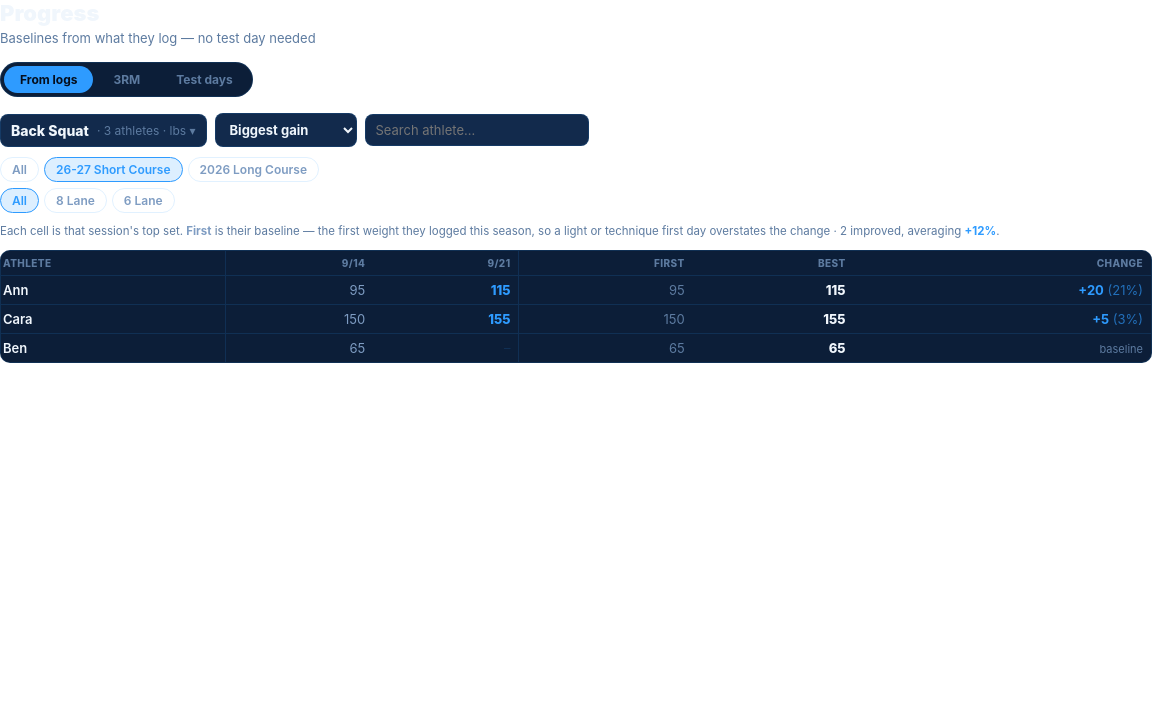
Test: picking a bodyweight movement switches the grid to reps
What coordinates should you click on to do the following:
click the button "Back Squat · 3 athletes · lbs ▾"
I would click on:
 (103, 130)
Its box is [0,114,206,146].
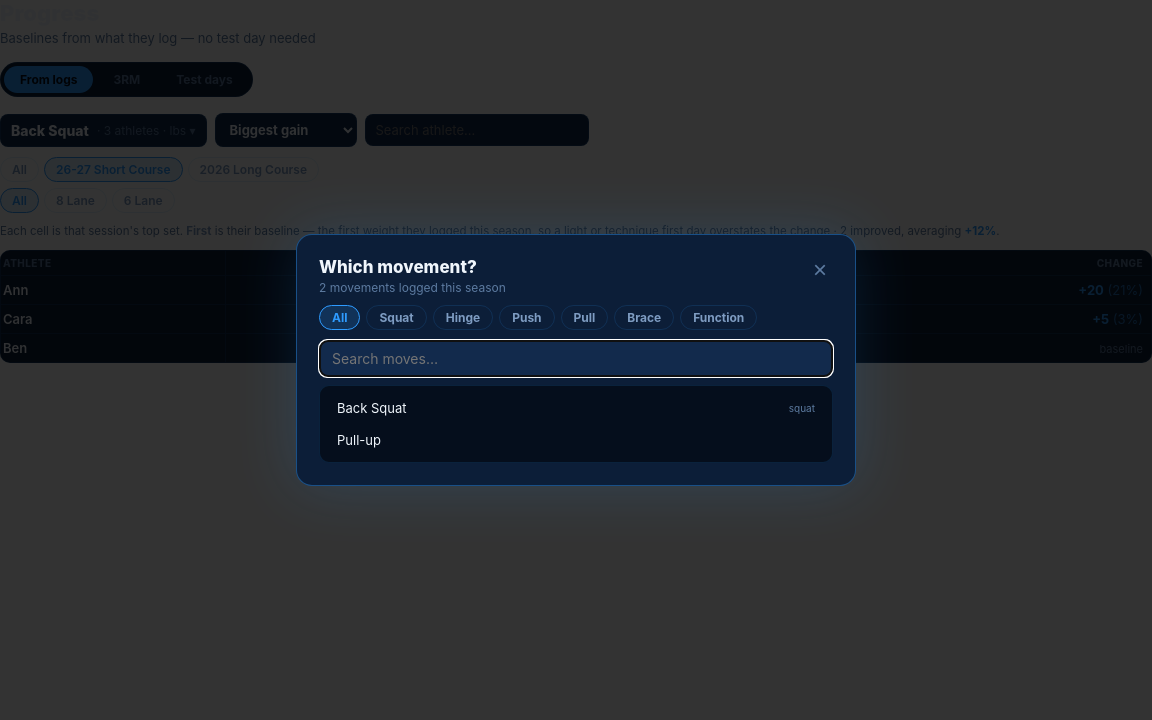
What coordinates should you click on to do the following:
click the button "Pull-up"
I would click on:
 (359, 440)
Its box is [326,424,826,456].
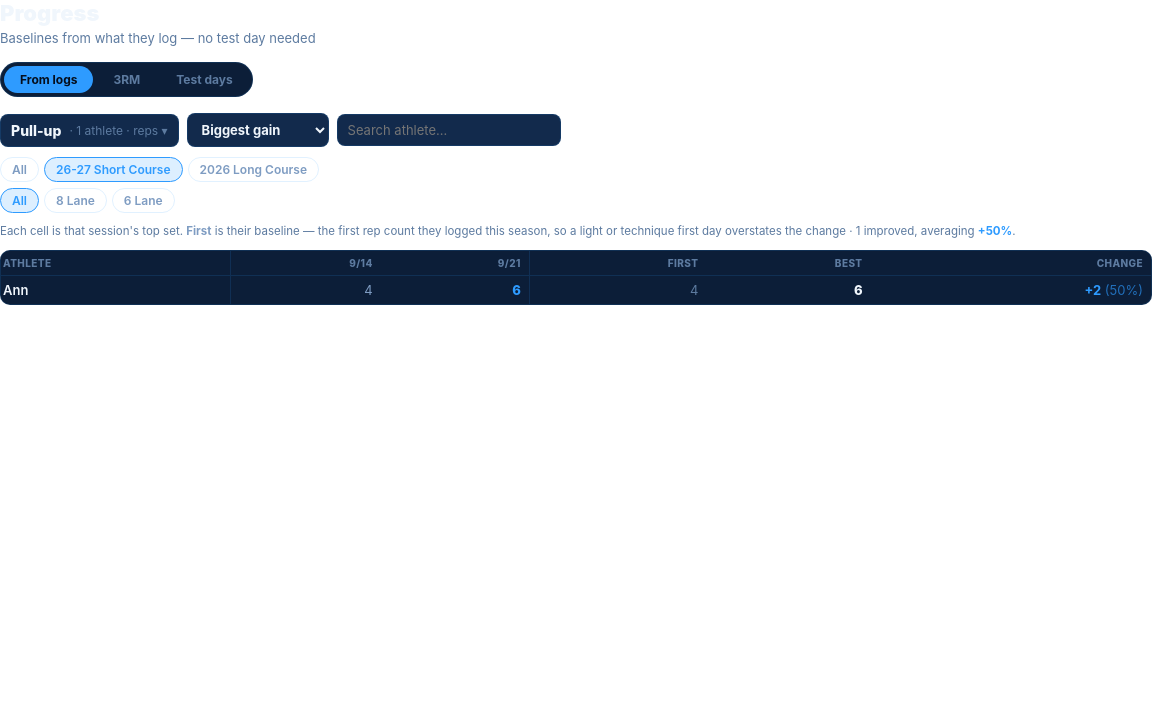
Result: the button "Pull-up · 1 athlete · reps ▾" is shown at [0,114,178,146]
